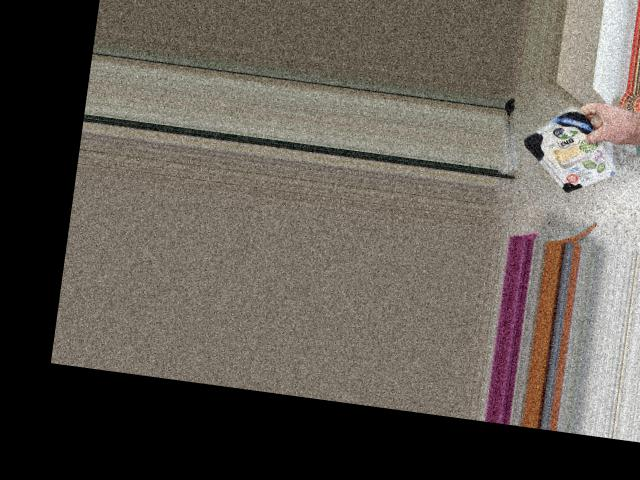cheese: (530, 83, 613, 201)
